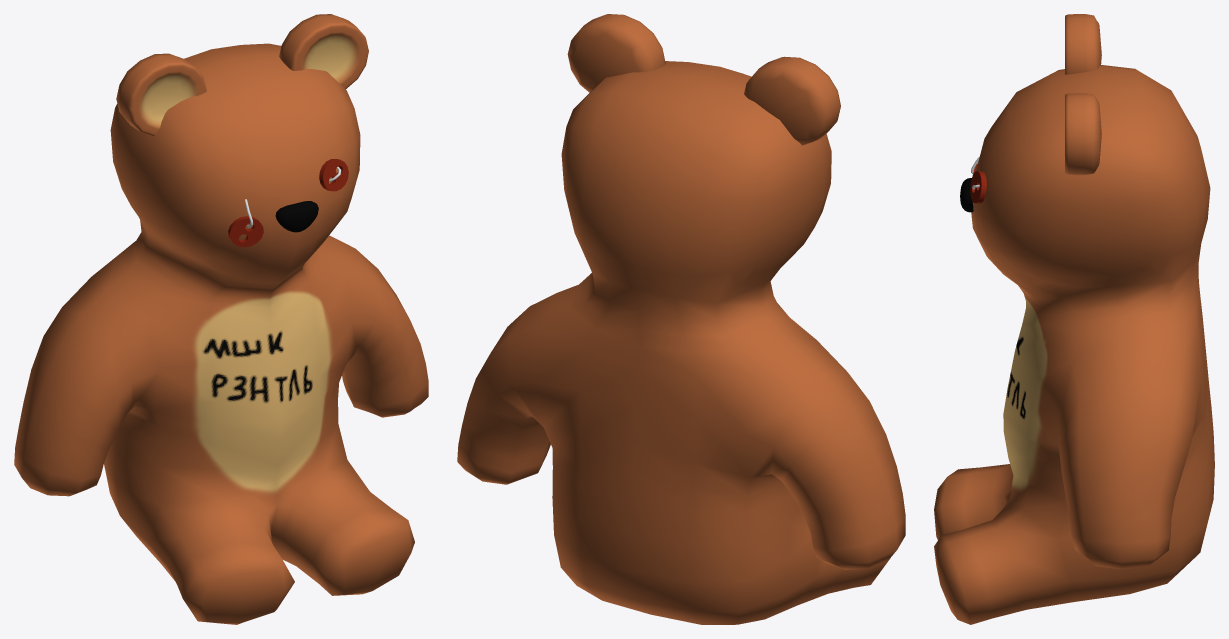
The model's file is bear.fbx.
3 views of the same model, side by side, from view 1: azimuth 30°, elevation 25°; view 2: azimuth 150°, elevation 25°; view 3: azimuth 270°, elevation 25° (orthographic). The views are drawn at different scales.
Visible parts, largest first — view 1: Cube, Cylinder.002, Plane; view 2: Cube; view 3: Cube, Cylinder.002.
Boxes of the visible parts, bbox=[...] form: Cube: bbox=[14, 14, 428, 624]; Cylinder.002: bbox=[228, 159, 348, 247]; Plane: bbox=[275, 201, 318, 232]; Cube: bbox=[457, 14, 905, 624]; Cube: bbox=[934, 14, 1214, 624]; Cylinder.002: bbox=[970, 164, 986, 203].
Bounding box in the file's own units: 326 × 413 × 199.
